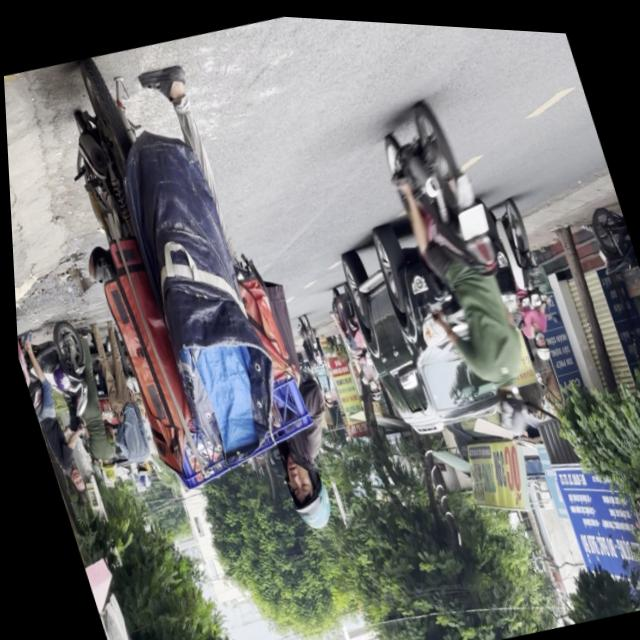helmet: (485, 372, 531, 434), (527, 324, 549, 356)
licenseplate: (364, 85, 555, 446), (477, 186, 567, 360)
nohelmet: (452, 196, 489, 235)
